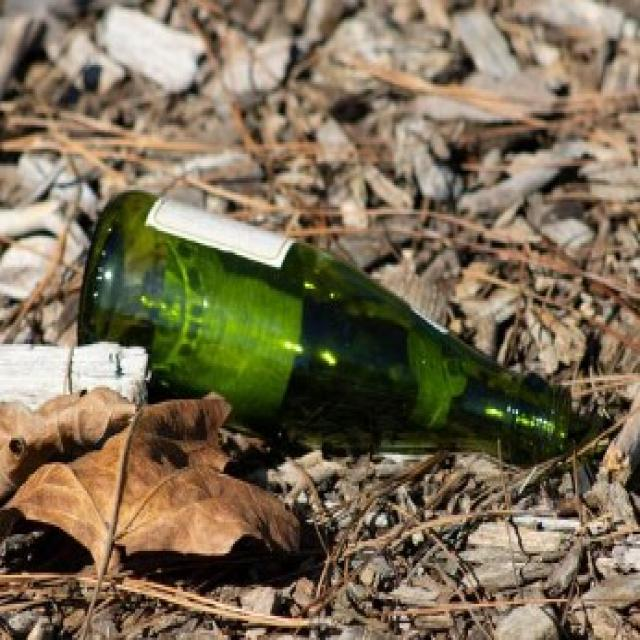electronic: (73, 187, 575, 475)
